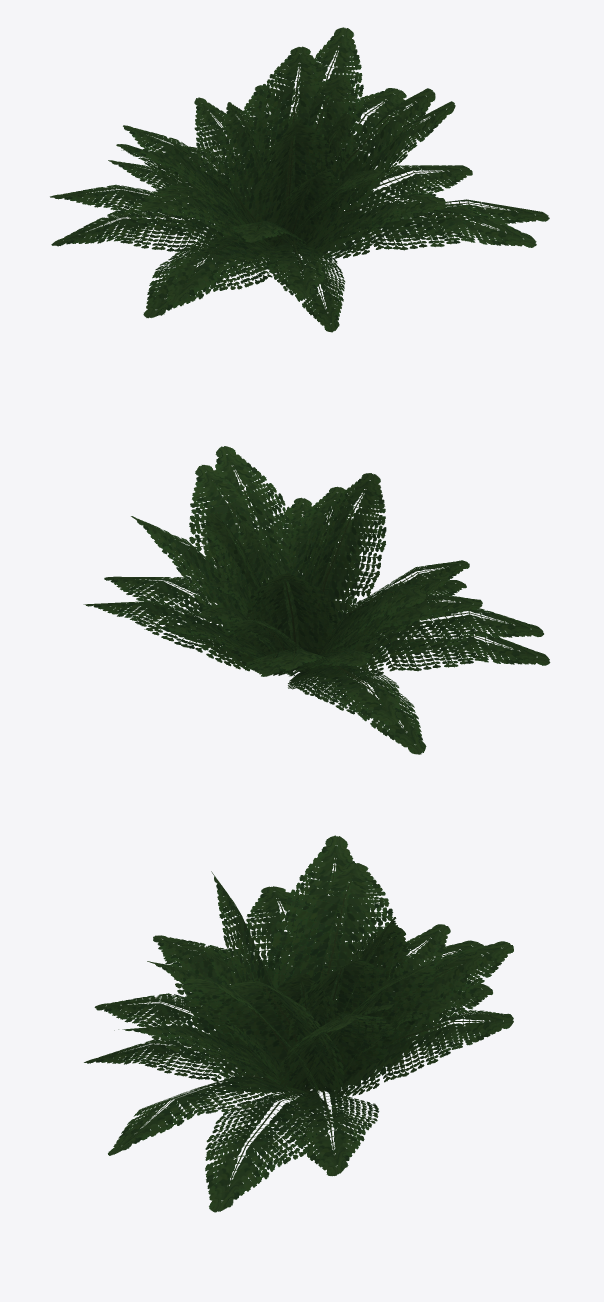
The model's file is fern.glb.
3 renders of one model, top to bottom at view 1: azimuth 30°, elevation 25°; view 2: azimuth 150°, elevation 25°; view 3: azimuth 270°, elevation 25°, orthographic. The views are drawn at different scales.
Visible parts, largest first — view 1: fern; view 2: fern; view 3: fern.
Part boxes in pixels (x1,y1,x2,y2): fern: [50, 27, 549, 332]; fern: [83, 446, 550, 754]; fern: [84, 835, 513, 1212].
Bounding box in the file's own units: 1.75 × 0.6687 × 1.4.
Materials: 1 (1 with a texture image).
